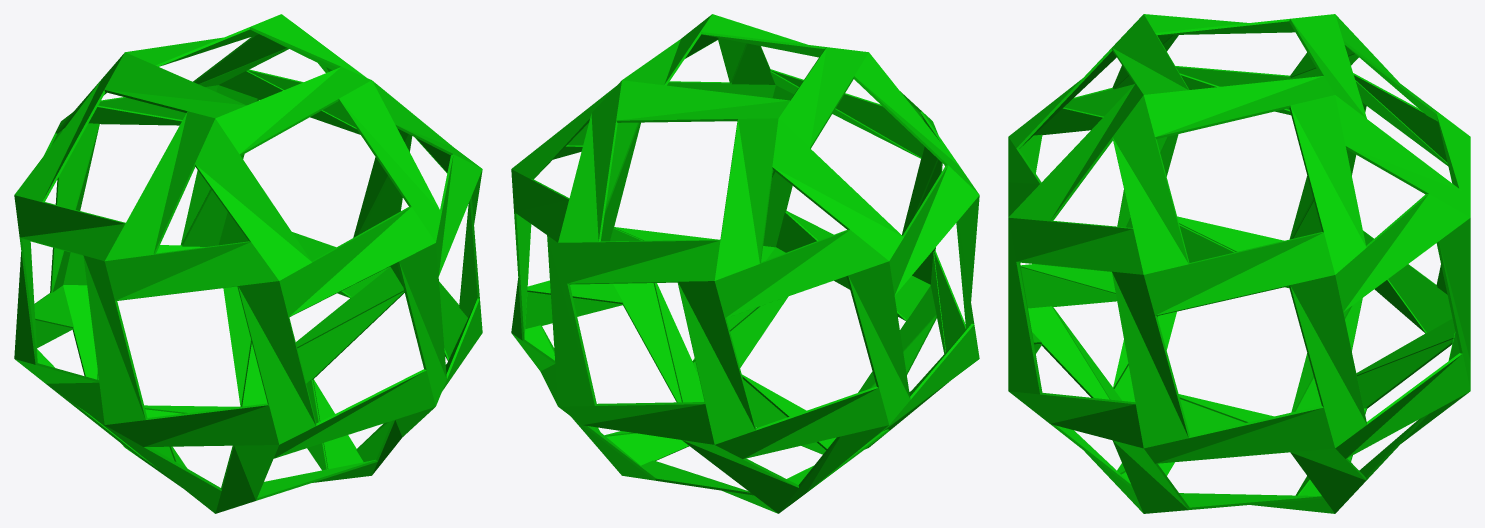
Rendered from Rhombicuboctahedron.glb.
The picture shows the model from 3 angles, left to right: view 1: azimuth 30°, elevation 25°; view 2: azimuth 150°, elevation 25°; view 3: azimuth 270°, elevation 25°; orthographic projection. The views are drawn at different scales.
Visible parts, largest first — view 1: root; view 2: root; view 3: root.
Part boxes in pixels (bbox=[...]): root: bbox=[14, 14, 482, 513]; root: bbox=[511, 14, 979, 513]; root: bbox=[1008, 14, 1470, 513].
Size of the model in its own units: 7.24 by 7.24 by 7.24.
